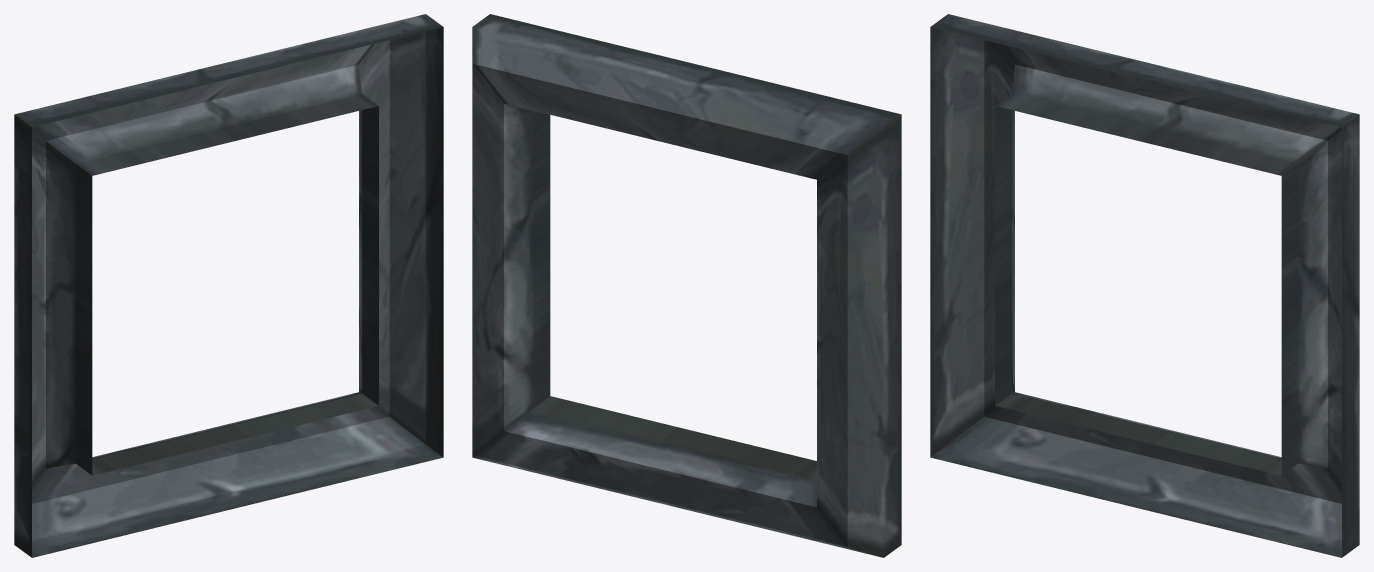
File: button_base.dae
3 renders of one model, left to right at view 1: azimuth 30°, elevation 25°; view 2: azimuth 150°, elevation 25°; view 3: azimuth 330°, elevation 25°, orthographic.
Parts seen in each view (by area): view 1: Cube_003; view 2: Cube_003; view 3: Cube_003.
Part boxes in pixels (<box>): Cube_003: <box>14,14,443,557</box>; Cube_003: <box>472,14,901,557</box>; Cube_003: <box>930,14,1359,557</box>.
Bounding box in the file's own units: 2 × 0.2984 × 2.
Materials: 1 (1 with a texture image).
